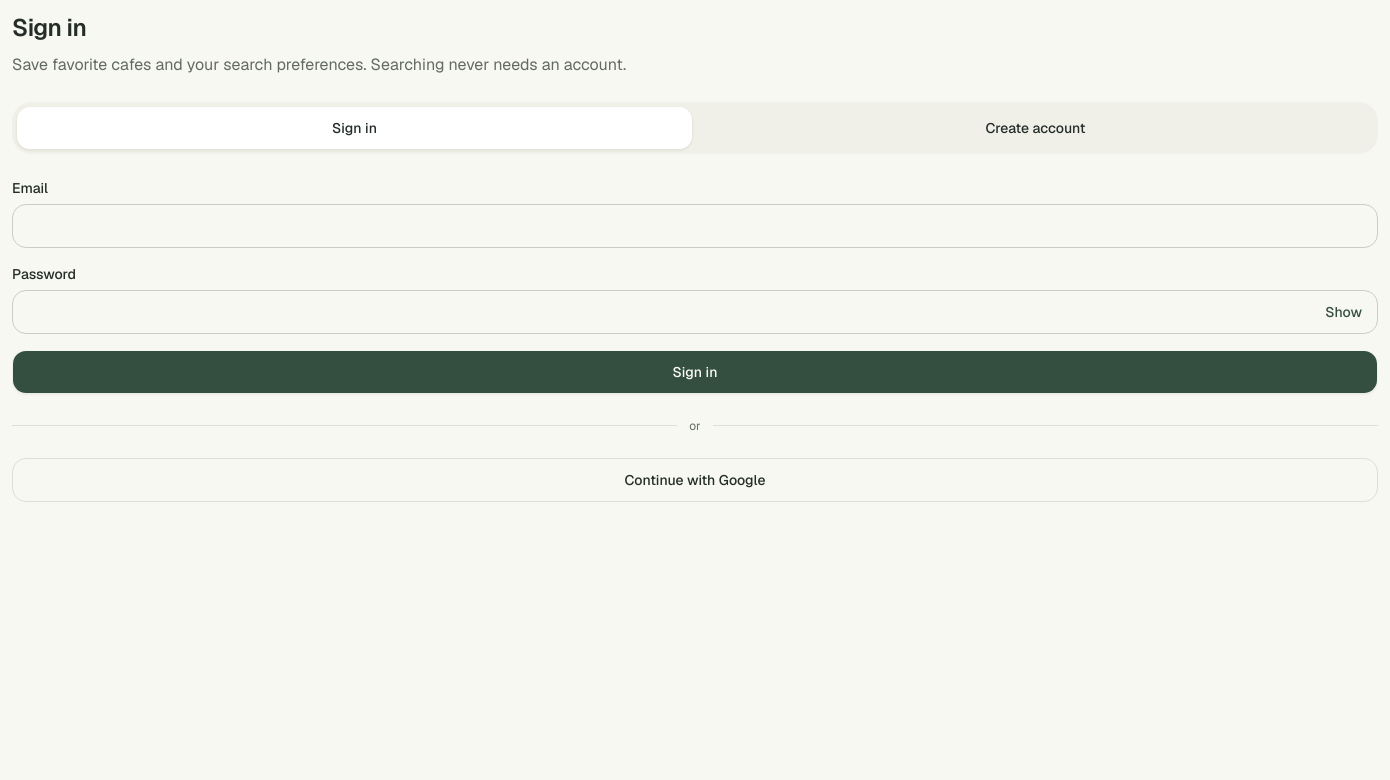
it: LoginView › offers email sign-in, sign-up and Google, carrying a safe next path
The width and height of the screenshot is (1390, 780).
Expected: the heading "Sign in" is shown, 12,12 -> 86,43
Expected: the button "Continue with Google" is shown, 12,458 -> 1378,502
Step 1. Click the button "Create account" → (1036, 128), box 697,106 -> 1374,150
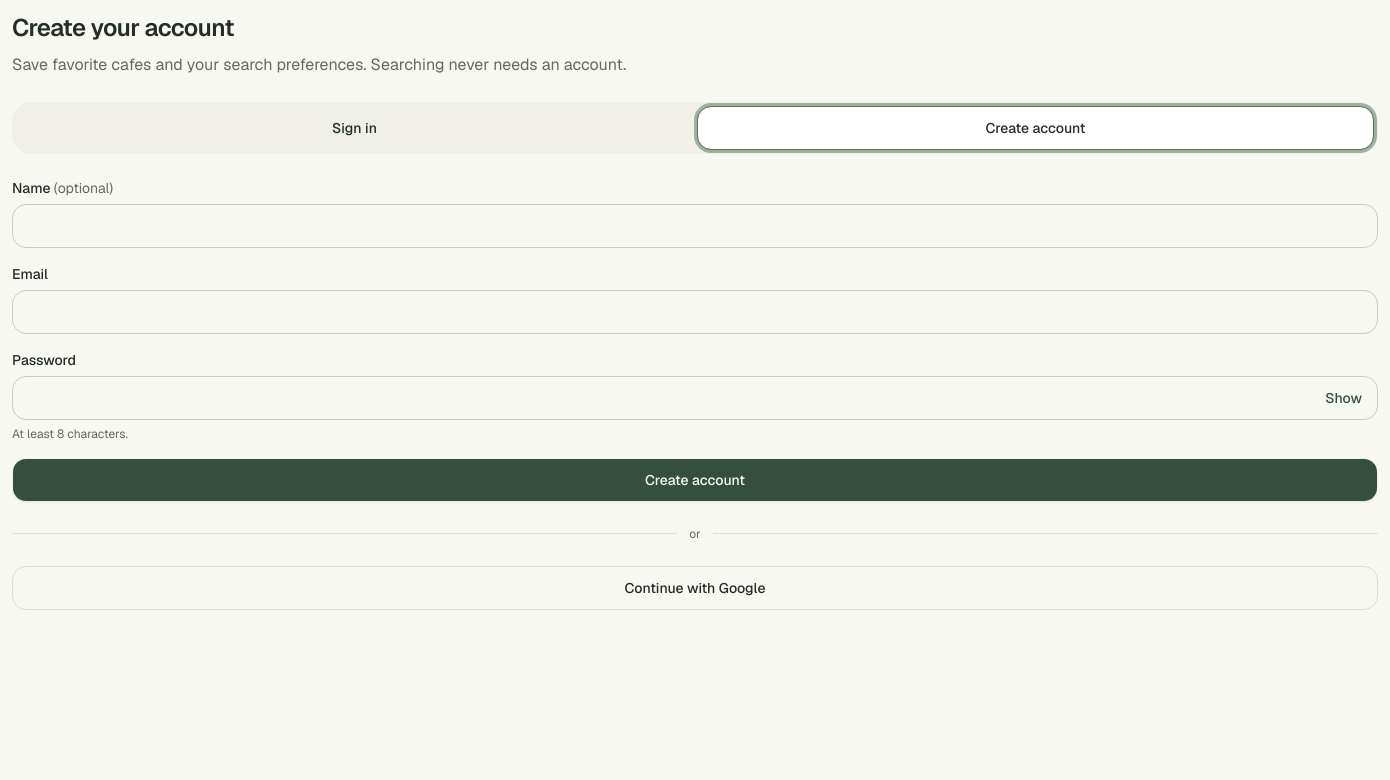
Expected: the field labelled "Name (optional)" is shown, 12,204 -> 1378,248
Expected: the heading "Create your account" is shown, 12,12 -> 234,43
